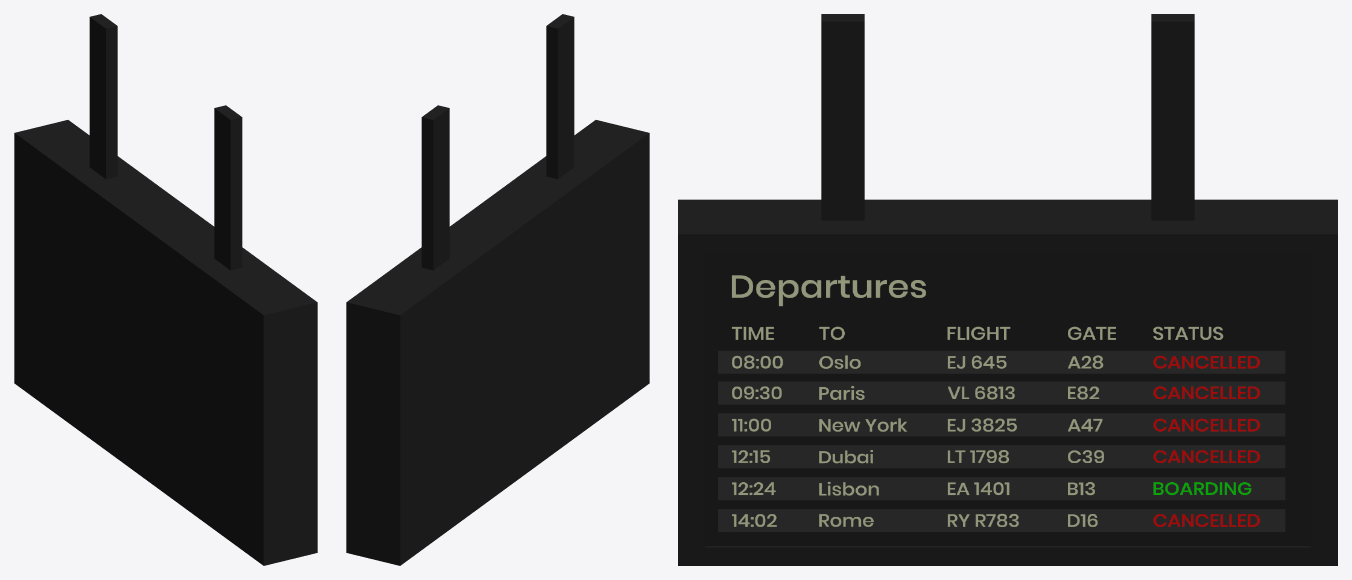
The model's file is flights_screen_cancelled.fbx.
3 renders of one model, left to right at view 1: azimuth 30°, elevation 25°; view 2: azimuth 150°, elevation 25°; view 3: azimuth 270°, elevation 25°, orthographic. The views are drawn at different scales.
Visible parts, largest first — view 1: Cube; view 2: Cube; view 3: 2Prancheta 8, Cube.
Boxes of the visible parts, x1=… form: Cube: x1=14, y1=14, x2=317, y2=565; Cube: x1=346, y1=14, x2=649, y2=565; 2Prancheta 8: x1=705, y1=252, x2=1310, y2=545; Cube: x1=678, y1=14, x2=1337, y2=565.
Size of the model in its own units: 23.43 by 167 by 188.
Materials: 2 (1 with a texture image).
